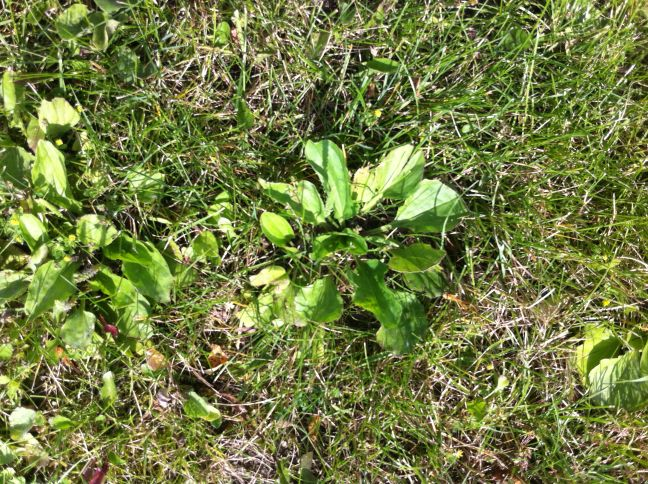weed1: (247, 133, 474, 351), (1, 78, 165, 368), (570, 312, 648, 412)
